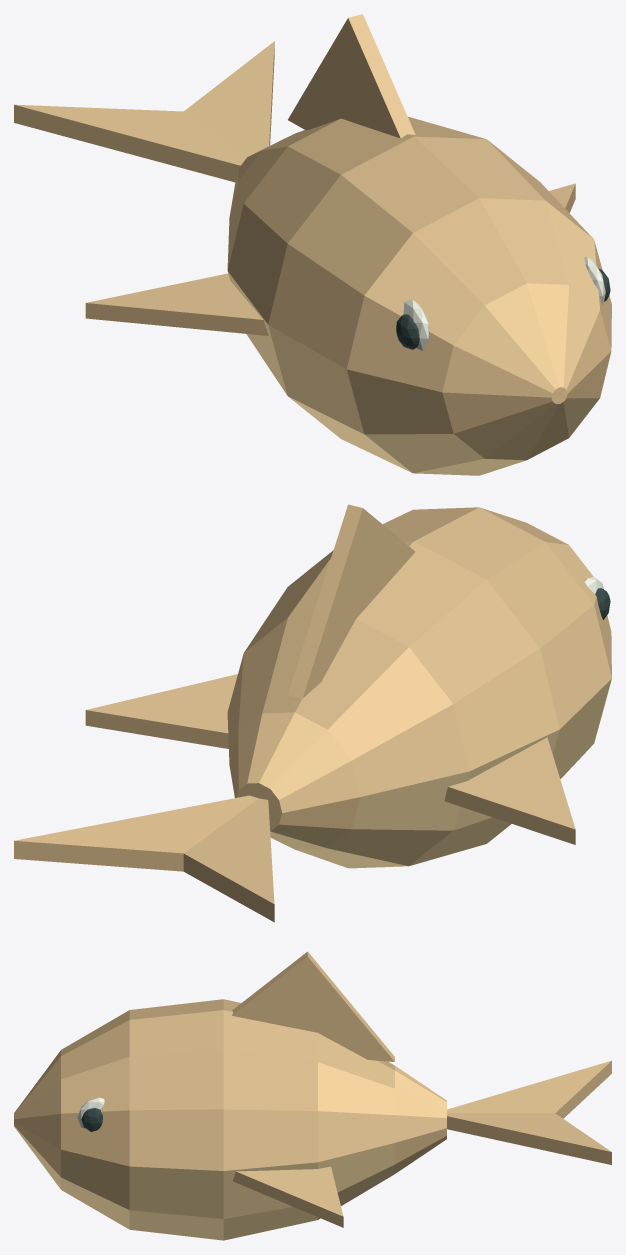
Rendered from FishCoral.fbx.
3 views of the same model, one above another, from view 1: azimuth 30°, elevation 25°; view 2: azimuth 150°, elevation 25°; view 3: azimuth 270°, elevation 25° (orthographic). The views are drawn at different scales.
Parts seen in each view (by area): view 1: Tapered sculpted body.001, Volume fork tail.001, Sculpted dorsal fin.001, Solid swept side fin.002, Raised ivory eye surround.002, Dark curious eye.002; view 2: Tapered sculpted body.001, Volume fork tail.001, Sculpted dorsal fin.001, Solid swept side fin.002, Solid swept side fin.003; view 3: Tapered sculpted body.001, Volume fork tail.001, Sculpted dorsal fin.001, Solid swept side fin.003, Dark curious eye.003.
Boxes of the visible parts, x1,y1,x2,y2 form: Tapered sculpted body.001: (227,117,611,475); Volume fork tail.001: (14,41,274,182); Sculpted dorsal fin.001: (288,14,415,138); Solid swept side fin.002: (85,273,268,335); Raised ivory eye surround.002: (403,299,429,350); Dark curious eye.002: (396,314,419,349); Tapered sculpted body.001: (227,507,611,868); Volume fork tail.001: (14,795,274,922); Sculpted dorsal fin.001: (288,504,415,698); Solid swept side fin.002: (444,737,575,844); Solid swept side fin.003: (85,674,237,748); Tapered sculpted body.001: (14,999,446,1240); Volume fork tail.001: (447,1060,611,1164); Sculpted dorsal fin.001: (232,951,394,1061); Solid swept side fin.003: (233,1166,343,1227); Dark curious eye.003: (81,1108,102,1131).
Bounding box in the file's own units: 79 × 59 × 116.
